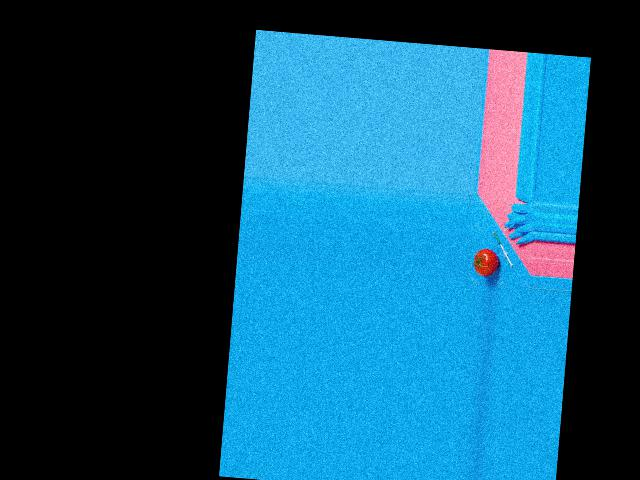tomato: (473, 247, 500, 276)
